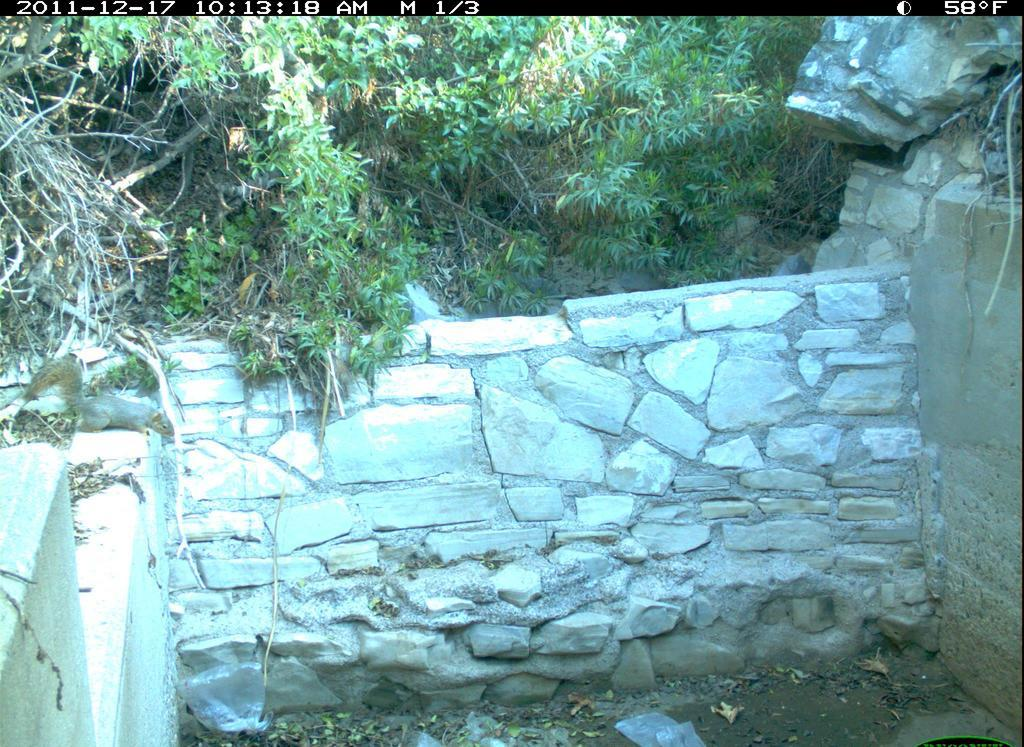squirrel: (21, 357, 176, 439)
